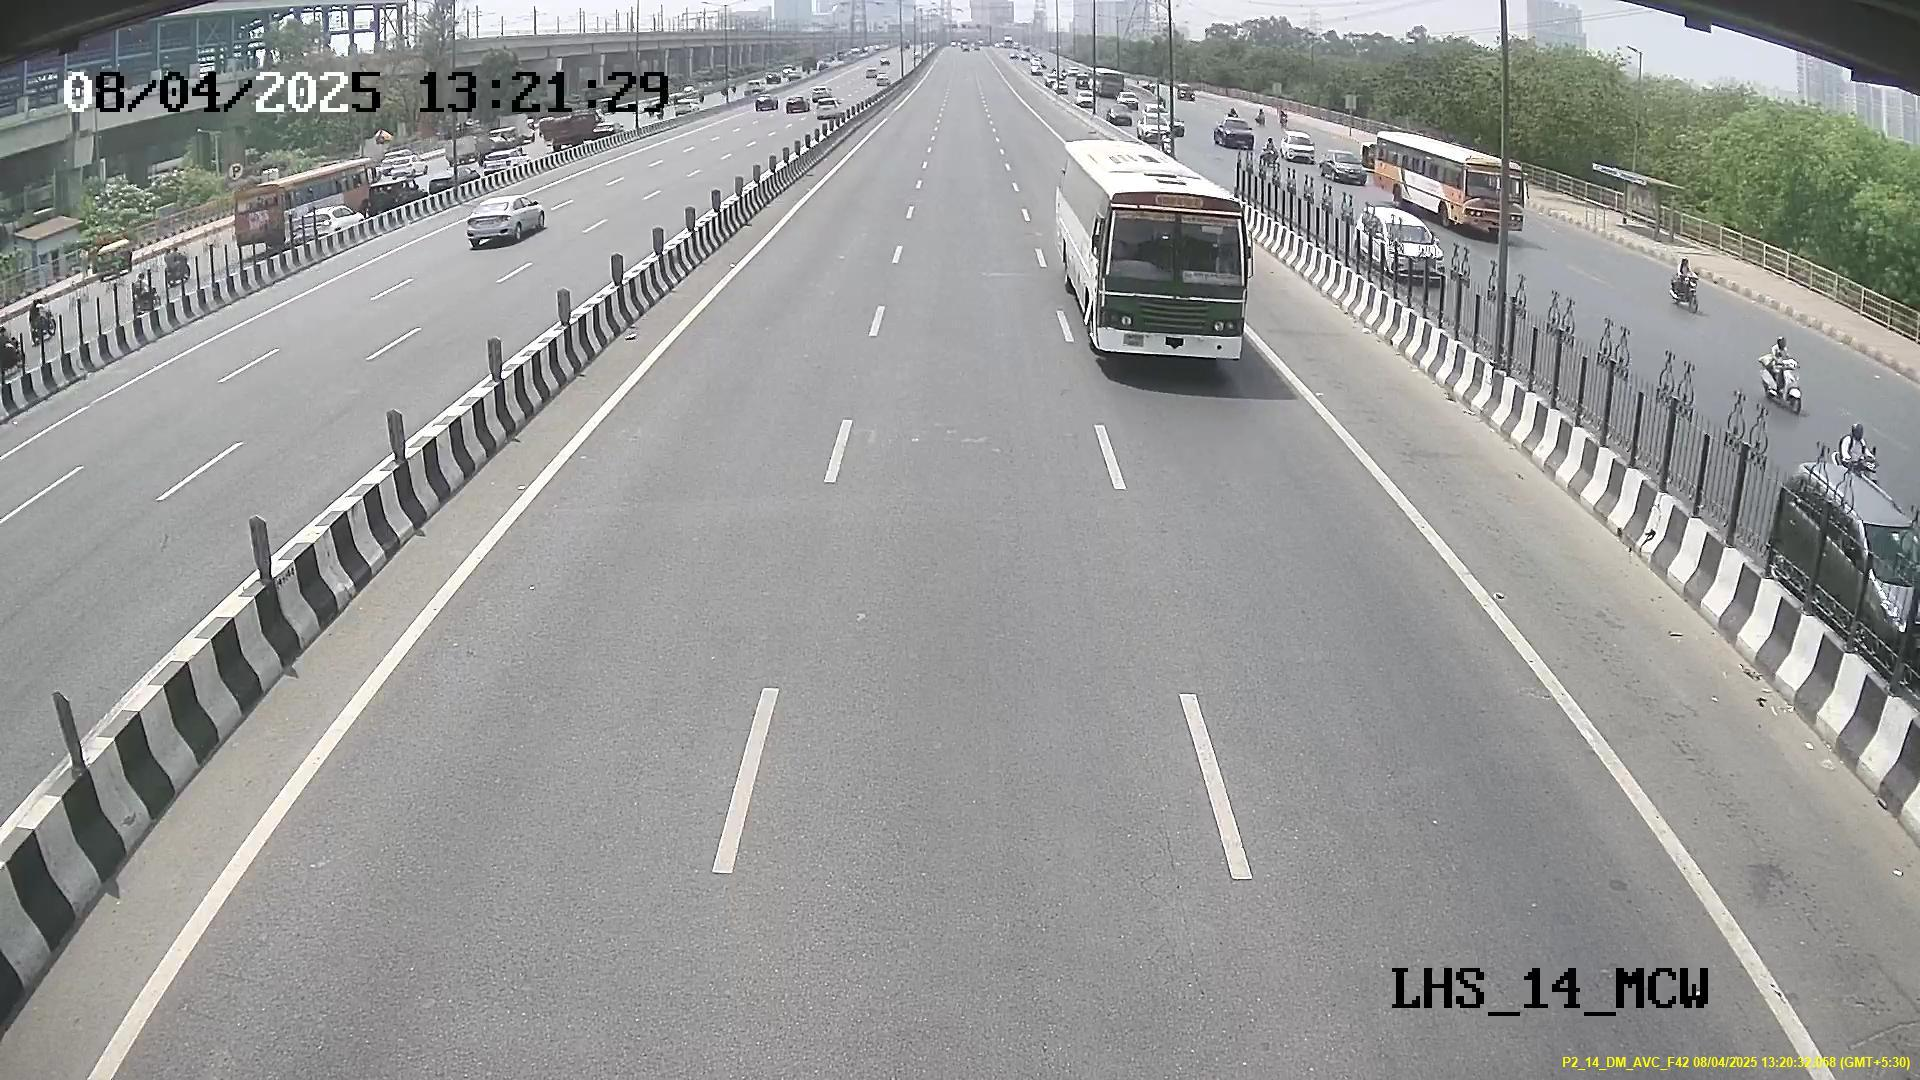bus: (1063, 174, 1255, 371)
